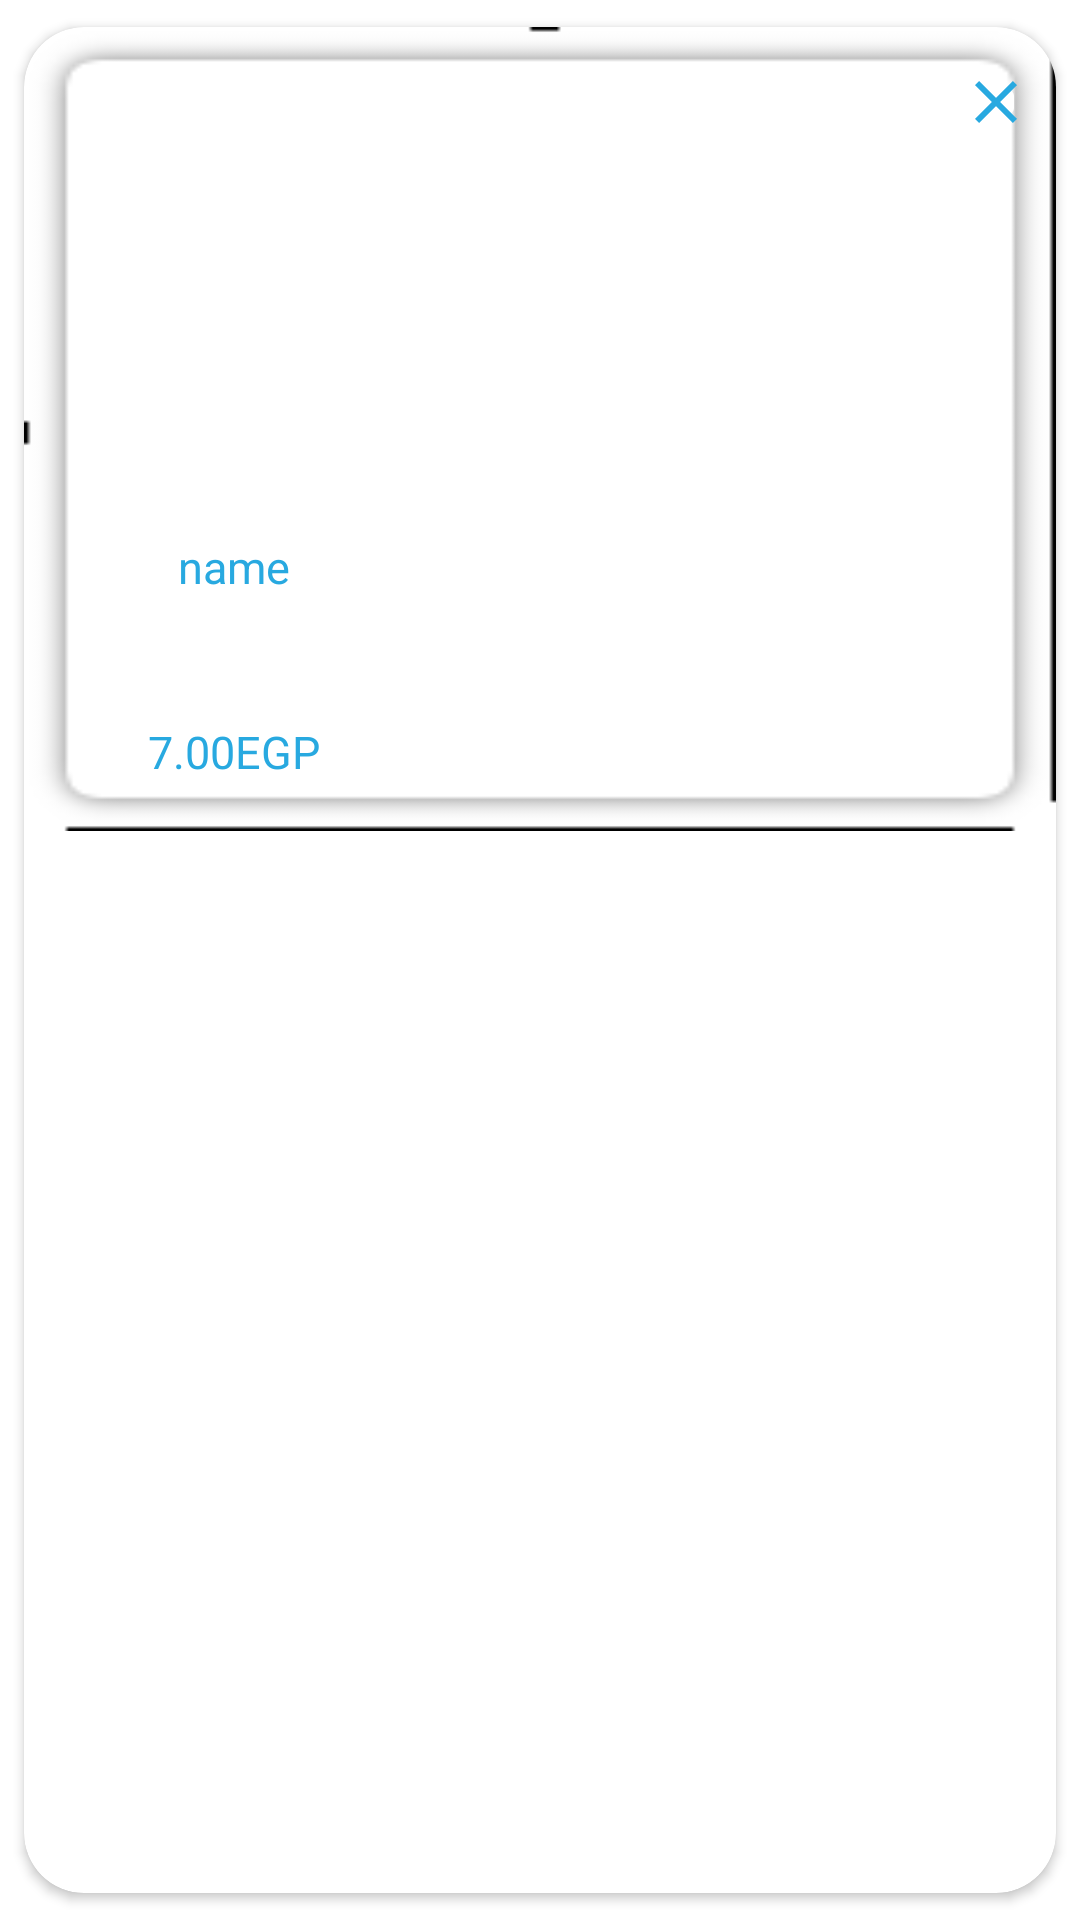

Icon bounding boxes for this 1080w x 1920h phone screenshot, format bbox(x1, y1, x2, y2):
close: bbox(975, 72, 1026, 132)
